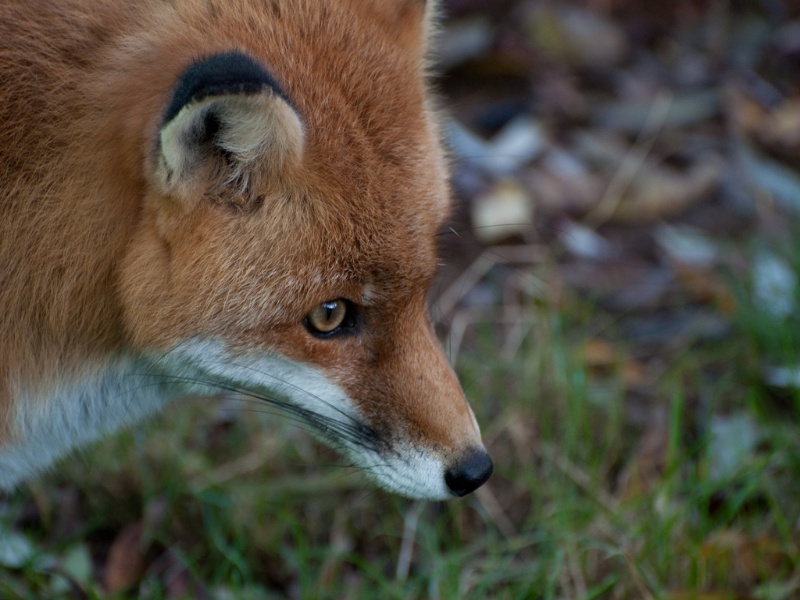fox: (1, 1, 496, 509)
